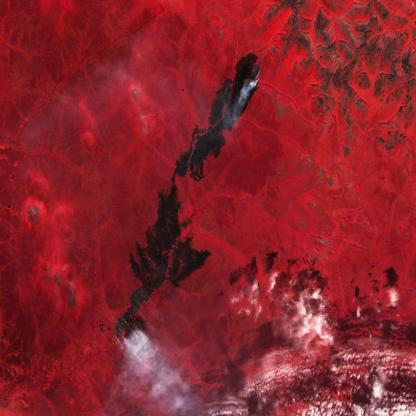fire: (108, 281, 145, 351), (242, 56, 266, 90)
